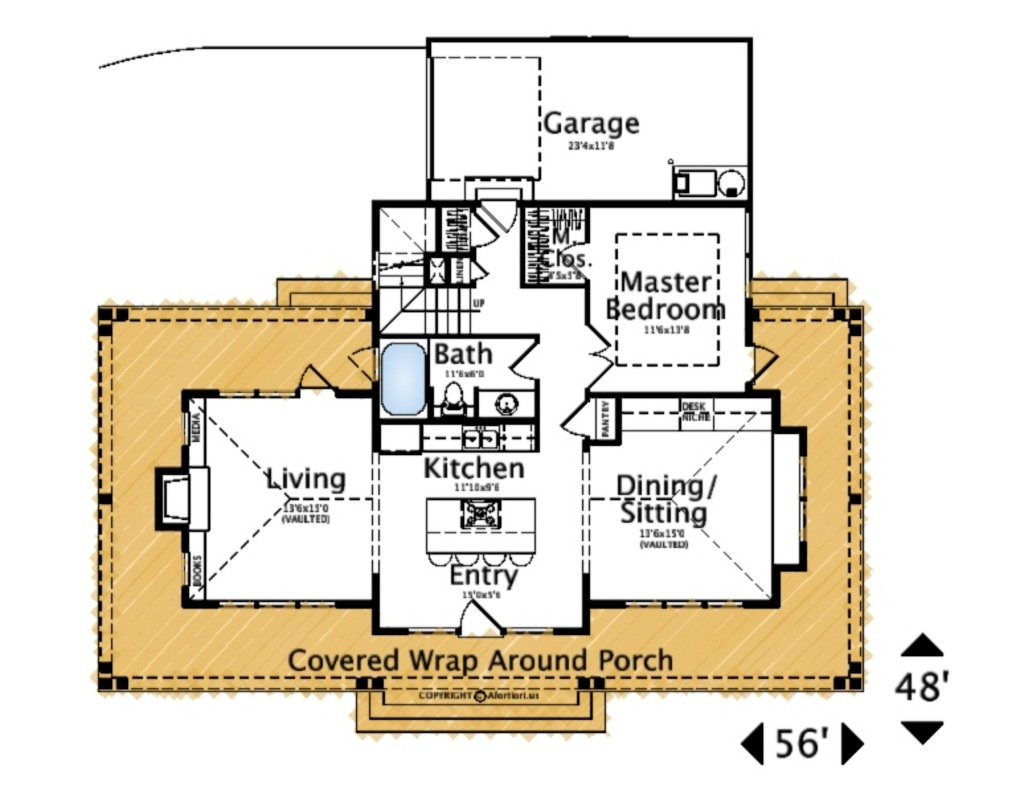door: (475, 185, 532, 241), (443, 596, 501, 641), (285, 364, 343, 407), (578, 320, 615, 386), (327, 340, 380, 382), (549, 392, 597, 438), (503, 332, 541, 390), (736, 341, 780, 381)
kitchen_bar: (413, 483, 555, 576)
large_sink: (429, 372, 471, 419)
small_sink: (482, 387, 532, 417)
stairs: (376, 207, 473, 329)
tub: (378, 334, 432, 424)
twin_sink: (454, 423, 503, 456)
window: (612, 593, 748, 611), (792, 454, 809, 545)
